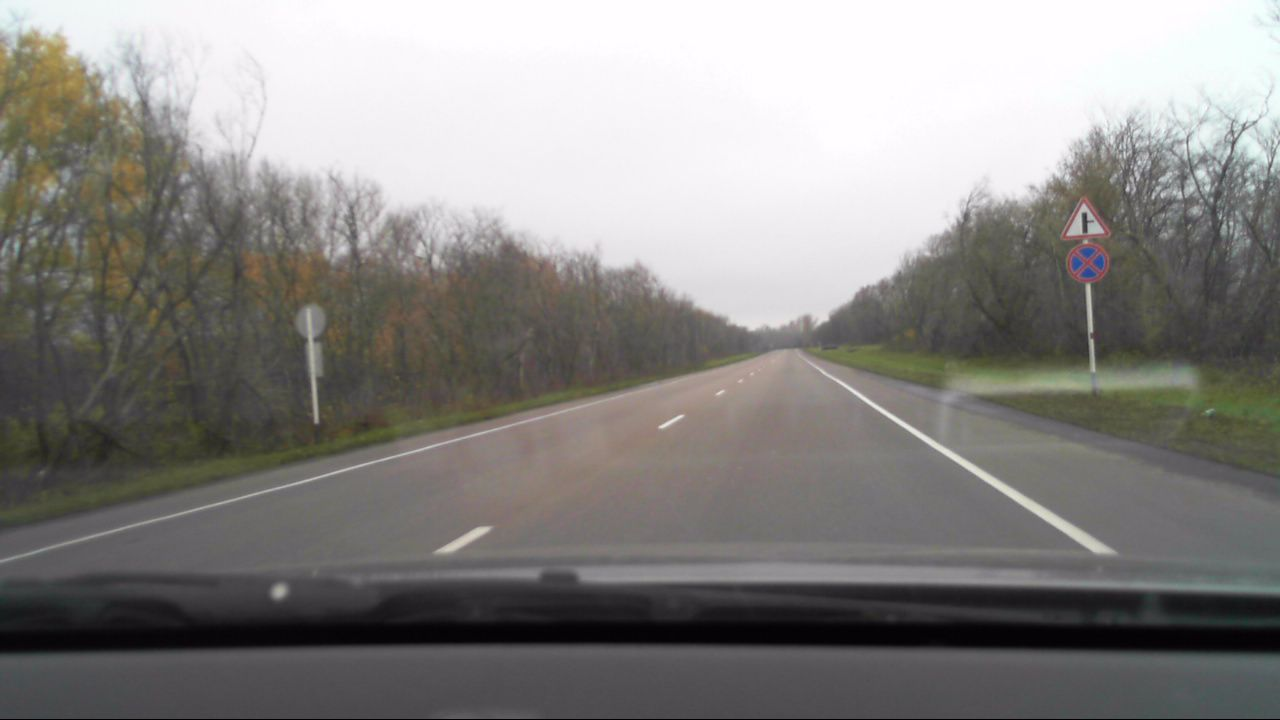No Parking: (1065, 243, 1110, 285)
